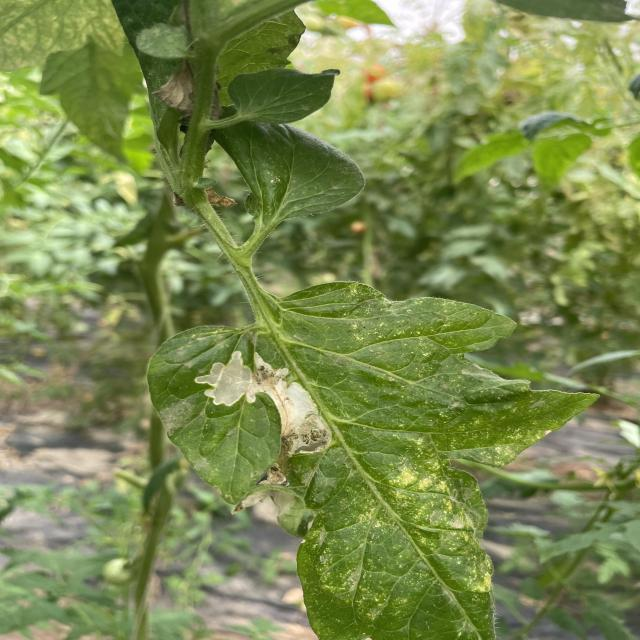Tuta absoluta: (189, 330, 348, 465)
